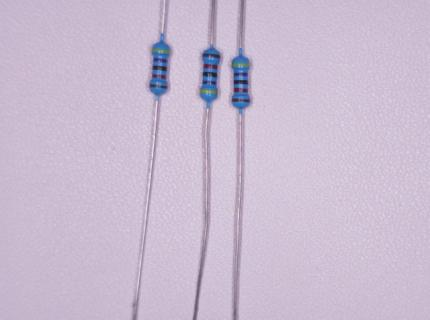Black band: (234, 80, 248, 85), (203, 72, 217, 77), (153, 66, 167, 70)
Brown band: (203, 54, 220, 58), (233, 99, 250, 102), (150, 85, 167, 88)
Red band: (204, 64, 217, 69), (152, 74, 166, 78), (235, 89, 248, 92)
Violet band: (154, 58, 168, 62), (234, 73, 248, 77), (203, 81, 216, 84)
Yellow band: (200, 90, 217, 94), (232, 63, 250, 66), (153, 49, 169, 52)
